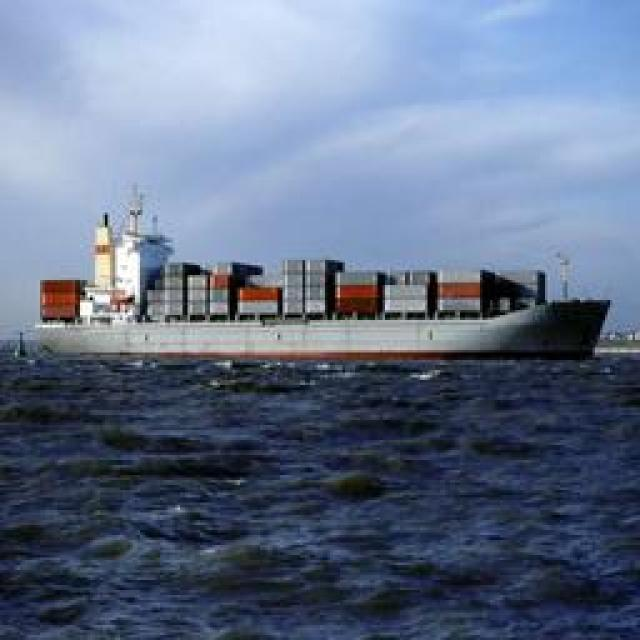CIV_Ship: (26, 251, 604, 369)
